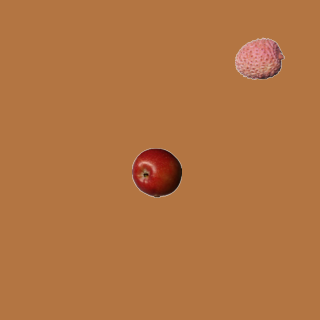Apple Braeburn: (131, 147, 181, 197)
Lychee: (234, 33, 284, 83)
